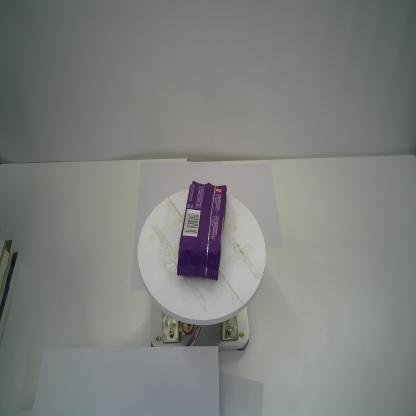Dessert: (176, 181, 227, 281)
